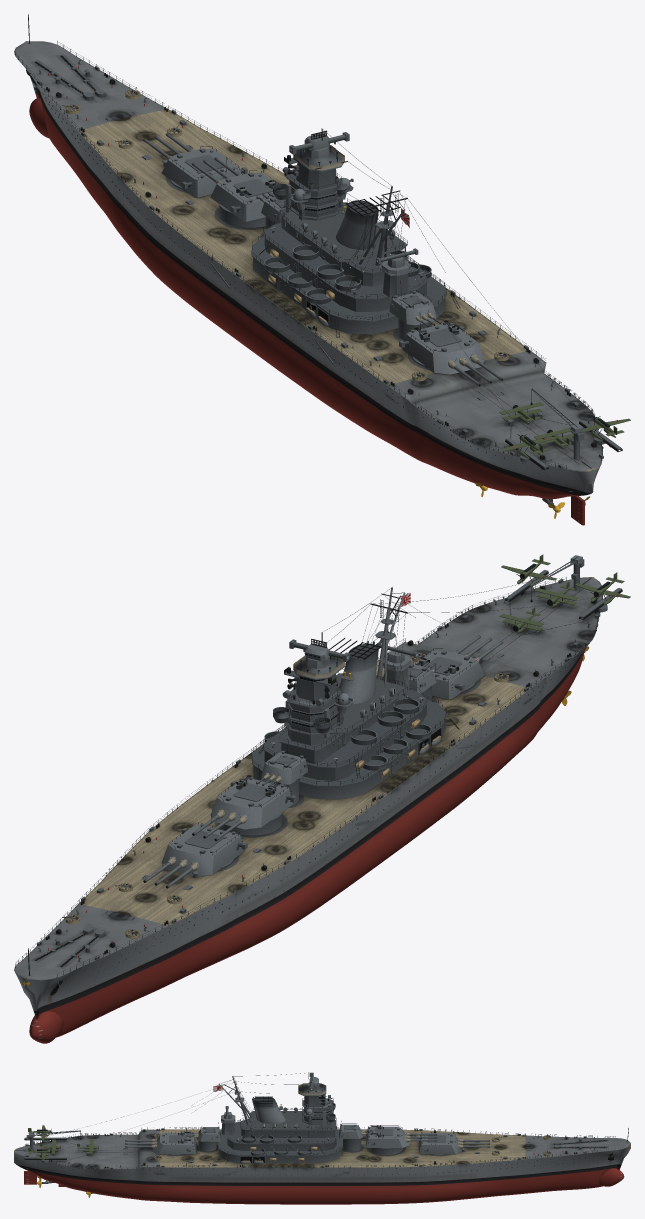
Rendered from yamato_cine.glb.
The picture shows the model from 3 angles, top to bottom: view 1: azimuth 30°, elevation 25°; view 2: azimuth 150°, elevation 25°; view 3: azimuth 270°, elevation 25°; orthographic projection. The views are drawn at different scales.
Visible parts, largest first — view 1: hull, fine, T3m, T2m, T1m, S2m; view 2: hull, T2m, fine, T1m, T3m, S1m, S2m; view 3: hull, fine, T2m, T3m, T1m, S1m, S2m.
Part boxes in pixels (x1=…): hull: x1=14, y1=14, x2=630, y2=525; fine: x1=15, y1=41, x2=610, y2=468; T3m: x1=399, y1=313, x2=484, y2=374; T2m: x1=210, y1=170, x2=278, y2=227; T1m: x1=162, y1=146, x2=247, y2=197; S2m: x1=389, y1=280, x2=436, y2=339; hull: x1=14, y1=554, x2=630, y2=1043; T2m: x1=210, y1=764, x2=296, y2=835; fine: x1=15, y1=577, x2=606, y2=977; T1m: x1=161, y1=814, x2=247, y2=876; T3m: x1=414, y1=648, x2=484, y2=699; S1m: x1=261, y1=738, x2=307, y2=804; S2m: x1=408, y1=662, x2=436, y2=701; hull: x1=14, y1=1072, x2=630, y2=1204; fine: x1=35, y1=1072, x2=620, y2=1169; T2m: x1=365, y1=1125, x2=409, y2=1154; T3m: x1=152, y1=1128, x2=196, y2=1154; T1m: x1=418, y1=1132, x2=461, y2=1154; S1m: x1=339, y1=1121, x2=362, y2=1151; S2m: x1=196, y1=1122, x2=220, y2=1151.
Size of the model in its own units: 38.89 by 54.45 by 263.
Materials: 5 (3 with a texture image).
